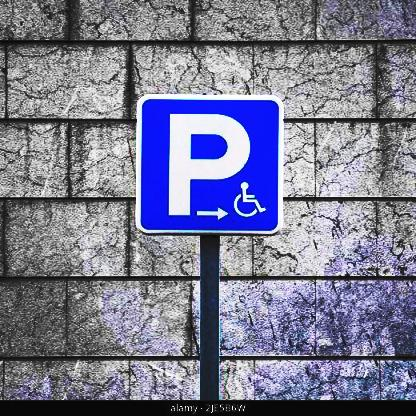Parking: (134, 92, 280, 236)
